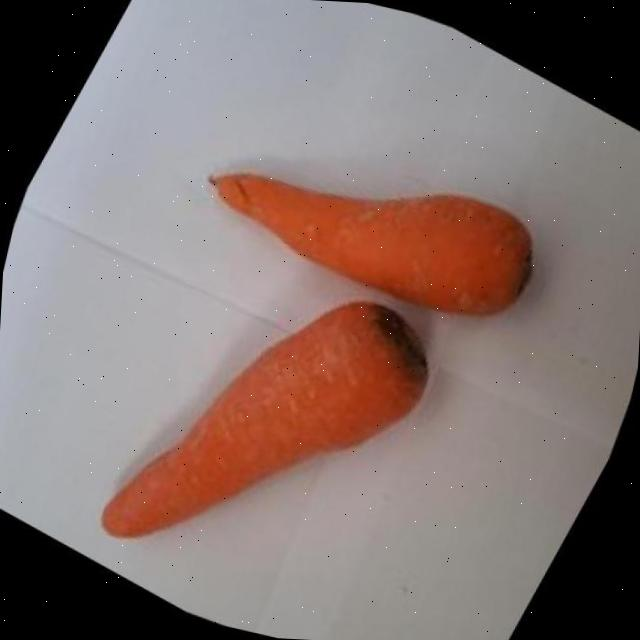carrot: (101, 303, 427, 536), (211, 174, 529, 314)
